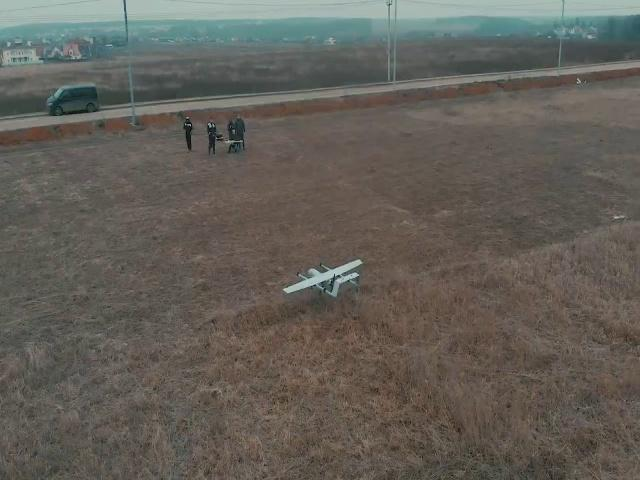Airplane: (282, 256, 365, 303)
